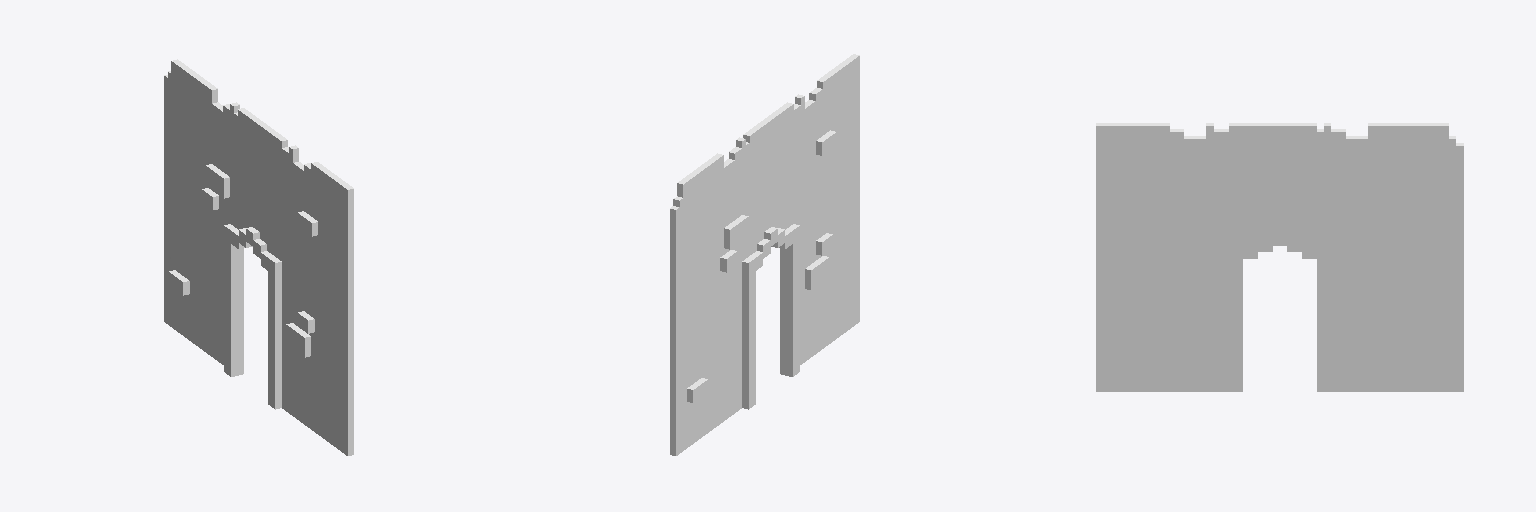
File: Desert-59-Wall_Door_01.obj
3 views of the same model, side by side, from view 1: azimuth 30°, elevation 25°; view 2: azimuth 150°, elevation 25°; view 3: azimuth 270°, elevation 25° (orthographic).
Parts seen in each view (by area): view 1: Wall_Door_01; view 2: Wall_Door_01; view 3: Wall_Door_01.
Boxes of the visible parts, x1,y1,x2,y2 form: Wall_Door_01: [164, 59, 353, 455]; Wall_Door_01: [670, 54, 859, 455]; Wall_Door_01: [1096, 123, 1463, 391].
Bounding box in the file's own units: 0.2 × 4 × 5.